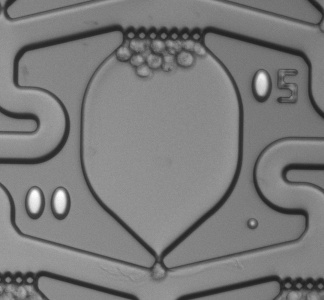AptNum: (245, 62, 305, 110)
Marker: (242, 213, 264, 234)
StNum: (17, 177, 81, 228)
Trap: (133, 257, 190, 300)
